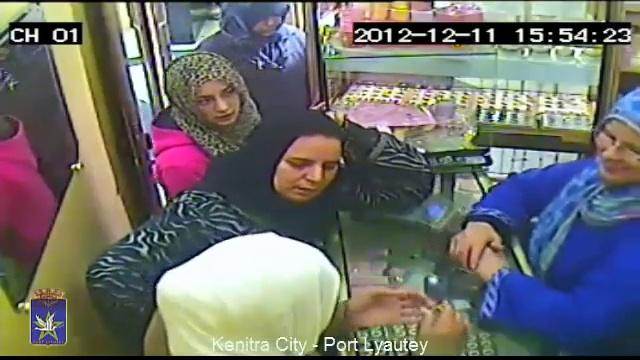Customer-Bagpack: (378, 135, 438, 205)
Product: (419, 300, 445, 328)
Product-Picked: (152, 233, 449, 360)
Regular: (456, 73, 640, 360), (247, 109, 378, 231), (153, 43, 255, 168), (224, 0, 323, 106)
